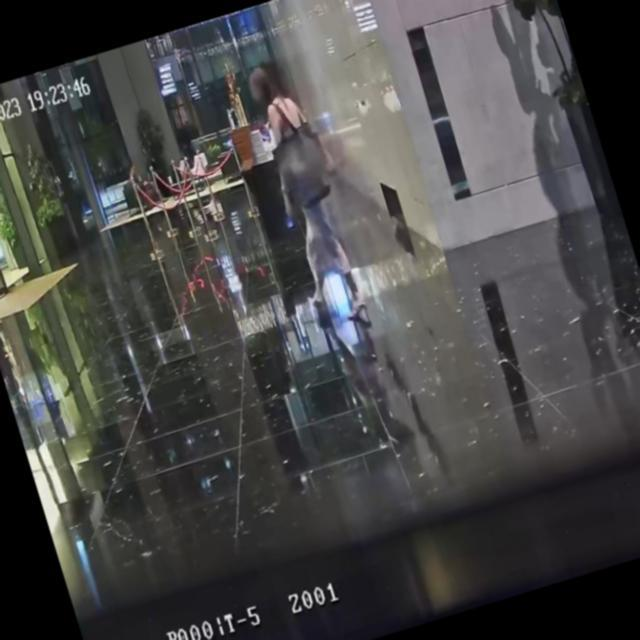person: (238, 55, 374, 336), (126, 156, 169, 209)
